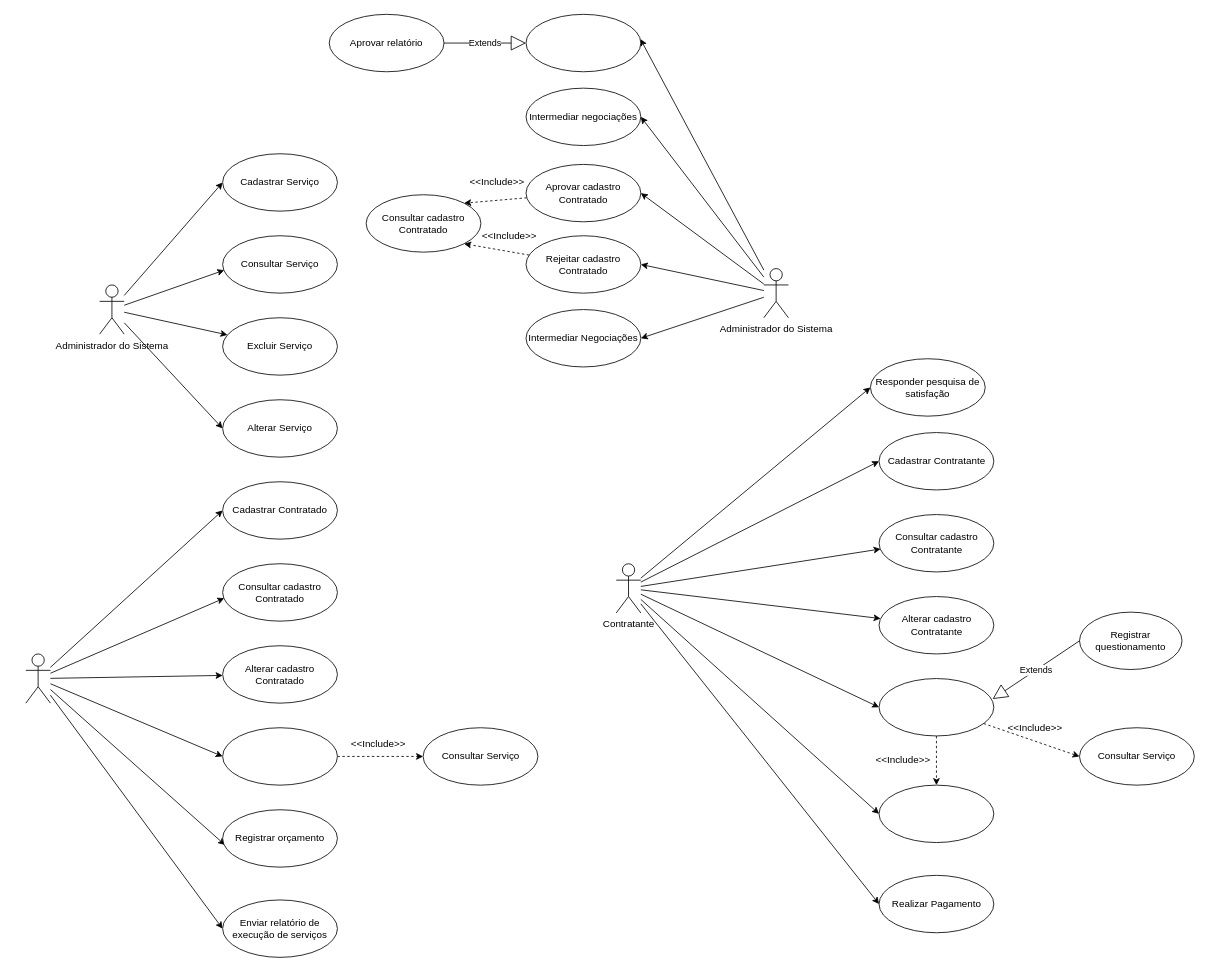
This 1209x972 diagram has some shape labels left out. Here are the shapes that lost their labels. From the top down, the centre of each, then its label:
At (583,43): "Justificar reprovação".
At (37,678): "Contratado".
At (936,707): "Registrar solicitação de serviço".
At (279,756): "Cadastrar serviços do contratado".
At (936,813): "Aprovar Orçamento".
